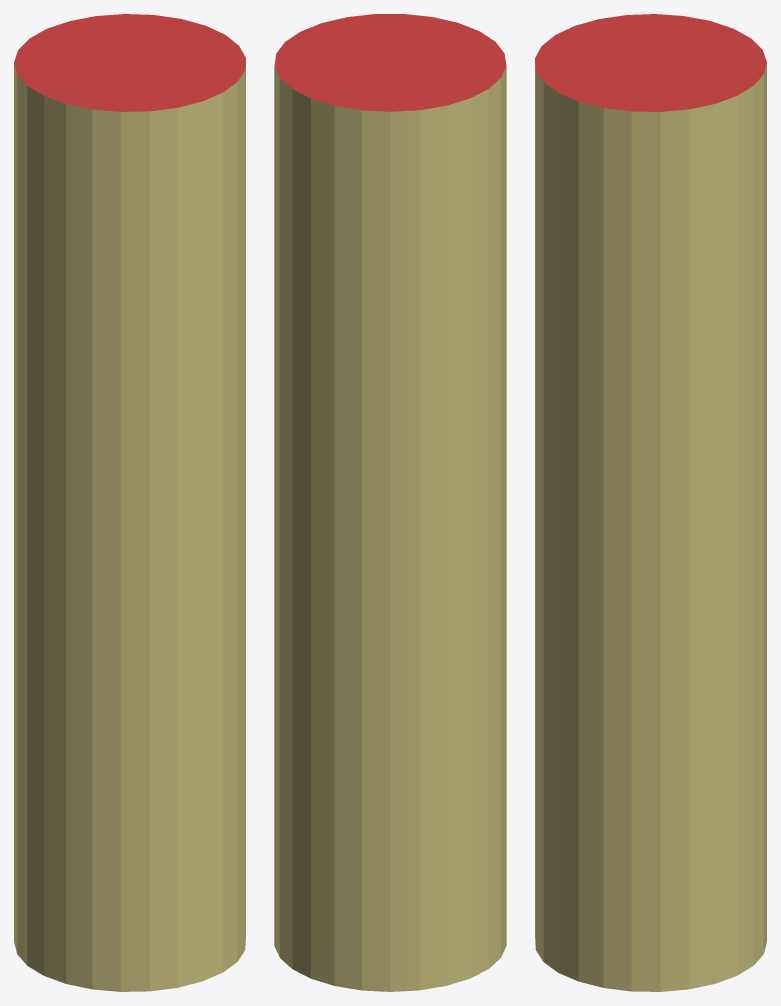
The picture shows the model from 3 angles, left to right: view 1: azimuth 30°, elevation 25°; view 2: azimuth 150°, elevation 25°; view 3: azimuth 270°, elevation 25°; orthographic projection.
Size of the model in its own units: 2.25 by 2.25 by 9.41.
